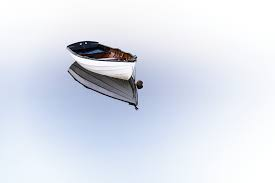boat: (67, 38, 144, 111)
